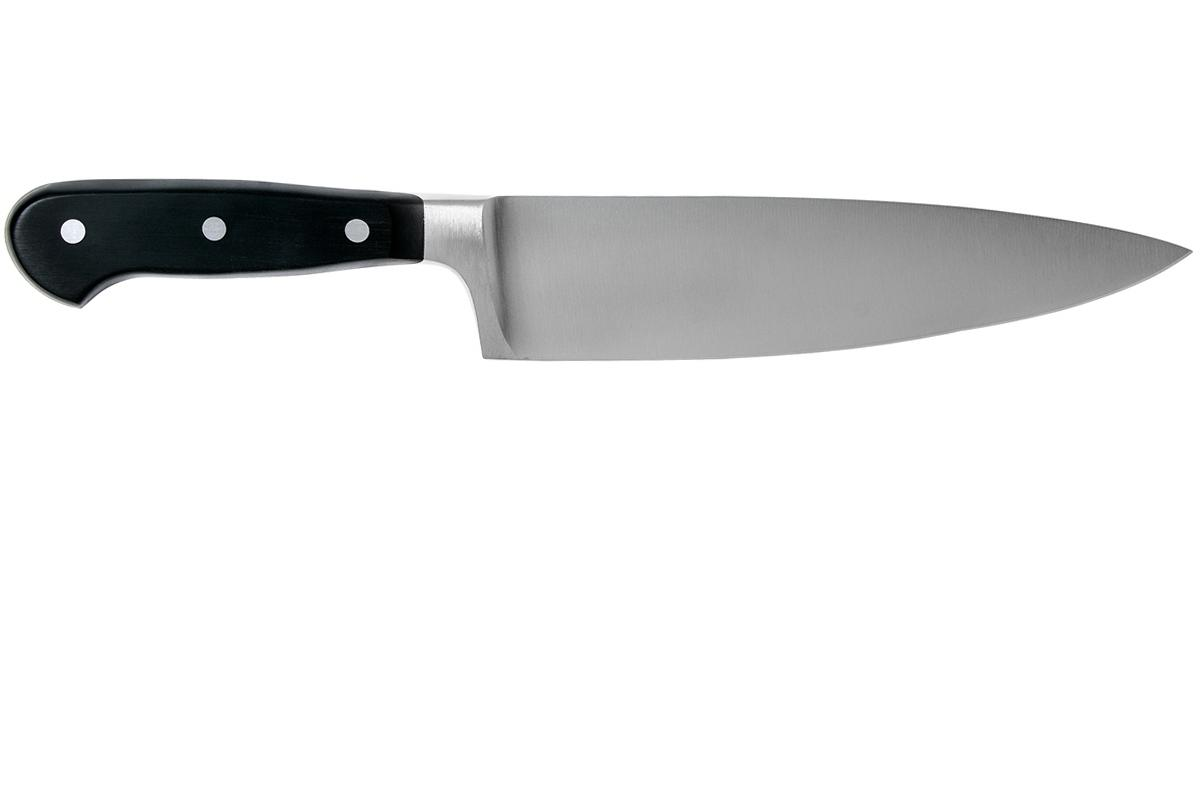knife: (5, 179, 1196, 364)
